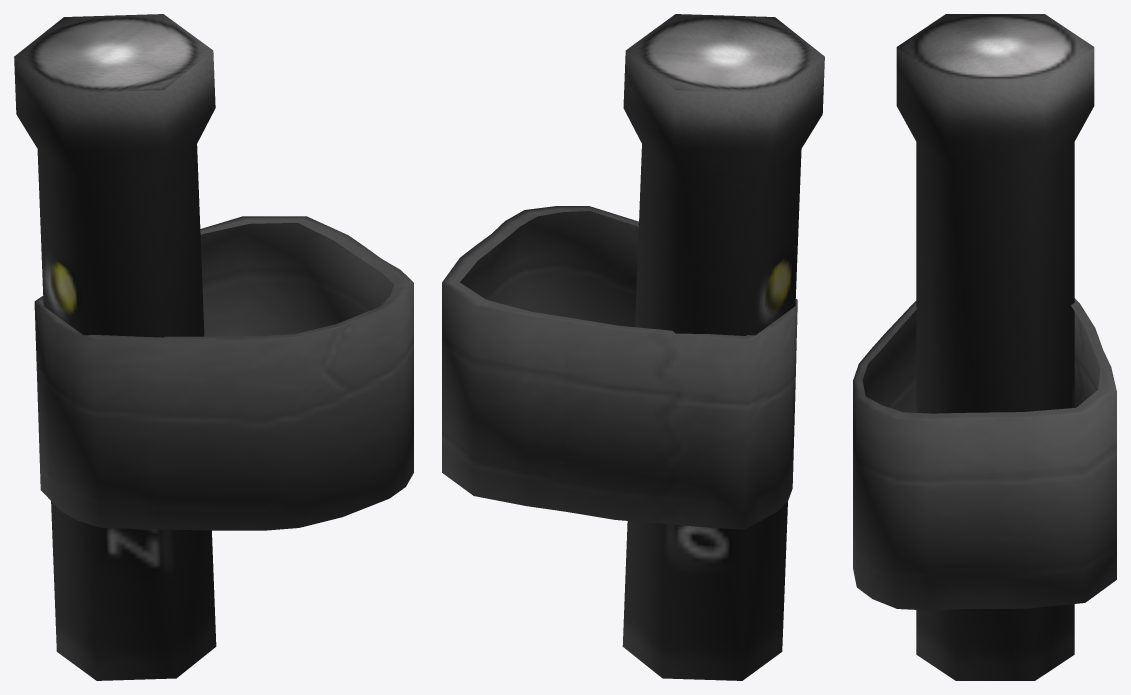
Rendered from TLOG_WeaponFlashlightSemiAutoRifleAbby.fbx.
The picture shows the model from 3 angles, left to right: view 1: azimuth 30°, elevation 25°; view 2: azimuth 150°, elevation 25°; view 3: azimuth 270°, elevation 25°; orthographic projection.
Visible parts, largest first — view 1: FlashlightFullAutoRifle.001; view 2: FlashlightFullAutoRifle.001; view 3: FlashlightFullAutoRifle.001.
Part boxes in pixels (<box>): FlashlightFullAutoRifle.001: <box>14,14,413,680</box>; FlashlightFullAutoRifle.001: <box>442,14,824,680</box>; FlashlightFullAutoRifle.001: <box>853,14,1116,680</box>.
Size of the model in its own units: 0.0769 by 0.1389 by 0.0538.
